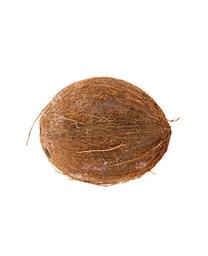coconut: (39, 77, 172, 186)
